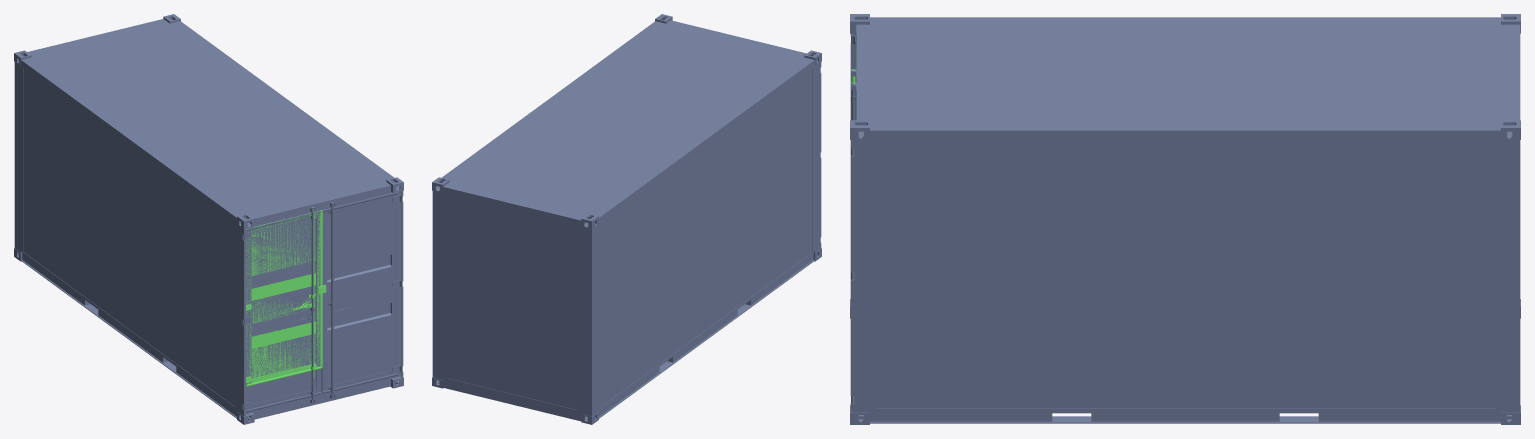
Rendered from Lagercontainer HC 2960 BC 2430.obj.
The picture shows the model from 3 angles, left to right: view 1: azimuth 30°, elevation 25°; view 2: azimuth 150°, elevation 25°; view 3: azimuth 270°, elevation 25°; orthographic projection. The views are drawn at different scales.
Visible parts, largest first — view 1: |TEst_lagercon~0|Root|Test_Lagercon1~0-1|color, |TEst_lagercon~0|Root|Test_lagercon2~0-1|color-2, |TEst_lagercon~0|Root|SpiegelnTest_lagercon2~0-3|color-4, |TEst_lagercon~0|Root|Test_lagercon3~0-5|color-3; view 2: |TEst_lagercon~0|Root|Test_Lagercon1~0-1|color; view 3: |TEst_lagercon~0|Root|Test_Lagercon1~0-1|color.
Boxes of the visible parts, x1,y1,x2,y2 form: |TEst_lagercon~0|Root|Test_Lagercon1~0-1|color: (14, 14, 403, 424); |TEst_lagercon~0|Root|Test_lagercon2~0-1|color-2: (321, 192, 402, 398); |TEst_lagercon~0|Root|SpiegelnTest_lagercon2~0-3|color-4: (243, 207, 321, 412); |TEst_lagercon~0|Root|Test_lagercon3~0-5|color-3: (246, 207, 326, 386); |TEst_lagercon~0|Root|Test_Lagercon1~0-1|color: (432, 14, 821, 424); |TEst_lagercon~0|Root|Test_Lagercon1~0-1|color: (850, 14, 1520, 424).
Bounding box in the file's own units: 2.43 × 2.96 × 6.06.
